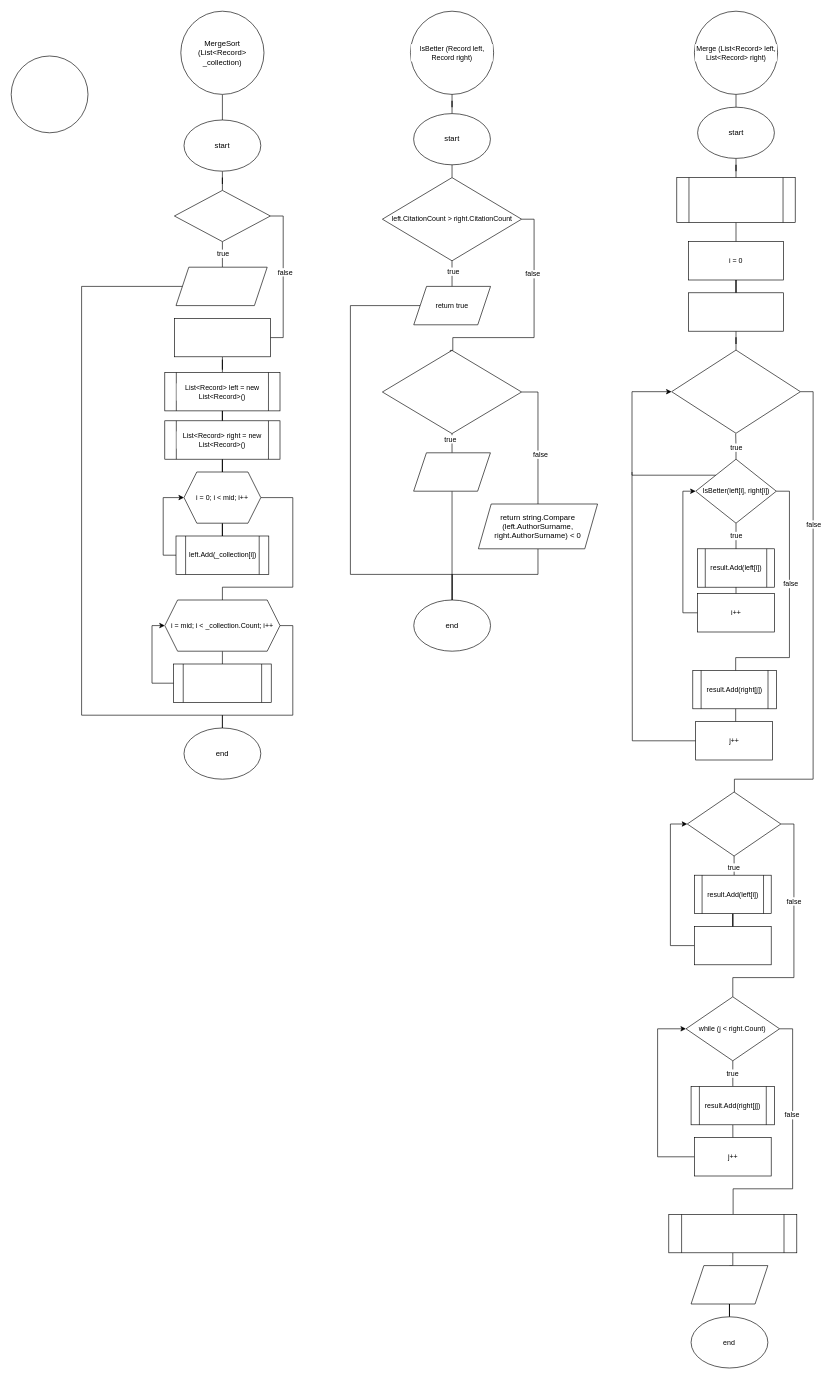
The diagram is 832 pixels wide and 1379 high, and some of its shapes have lost their labels. Here are the shapes that lost their labels. From the top down, the box of each, then its label:
(11, 55, 88, 133): Пошитнюк
(174, 190, 270, 242): _collection.Count <= 1
(676, 177, 795, 222): List<Record> result = new List<Record>();
(175, 267, 267, 306): return _collection
(688, 292, 784, 331): j = 0
(174, 318, 270, 357): mid = _collection.Count / 2
(382, 350, 522, 434): left.CitationCount < right.CitationCount
(671, 349, 800, 433): while (i < left.Count && j < right.Count
(413, 452, 490, 491): return false
(173, 663, 271, 702): right.Add(_collection[i])
(687, 791, 781, 856): while (i < left.Count)
(694, 926, 771, 965): і++
(668, 1214, 797, 1253): PrintIntermediateSteps(result)
(690, 1265, 768, 1304): return result
